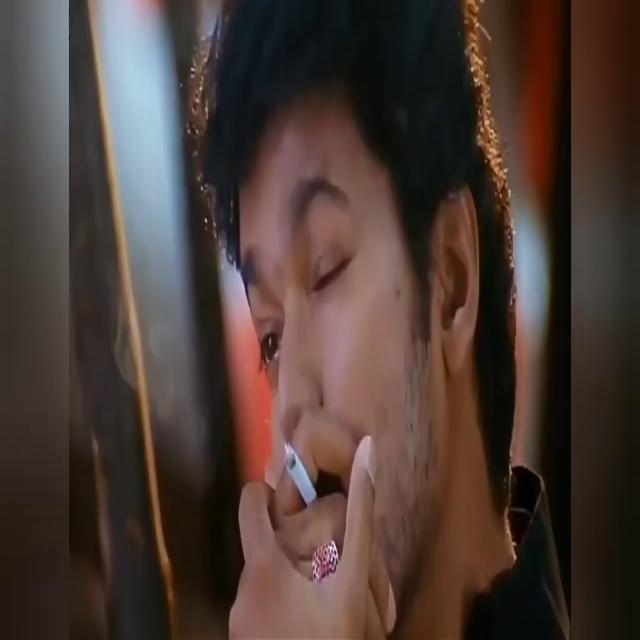smoking: (304, 470, 322, 498)
